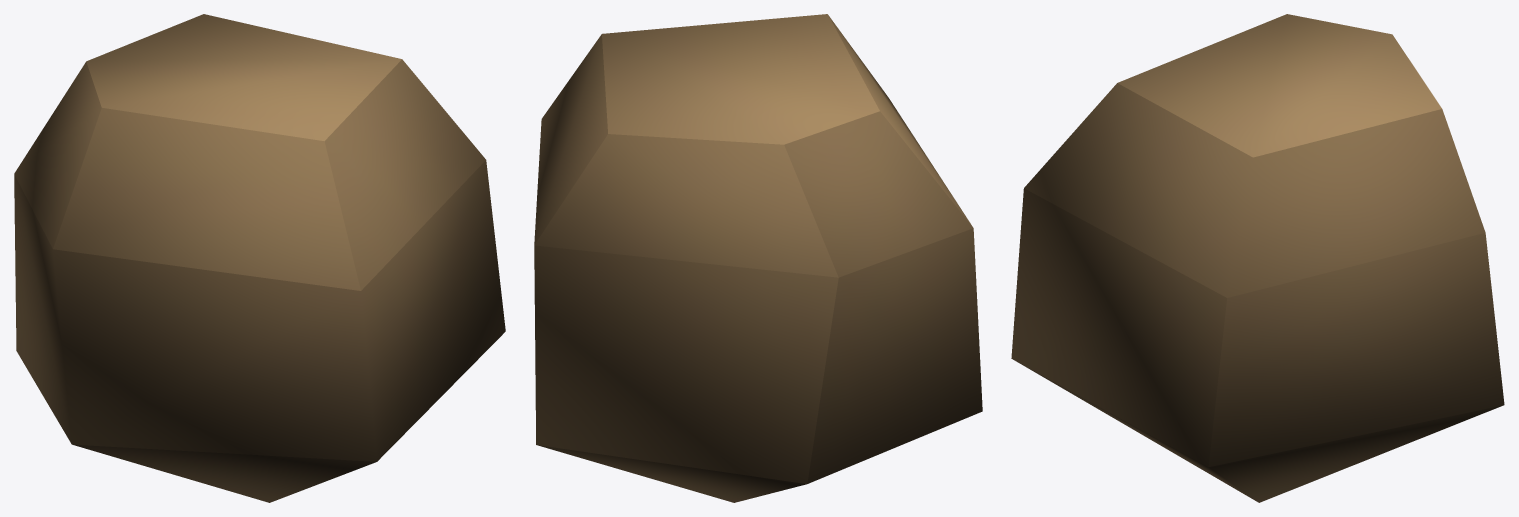
Rendered from Rock_Small_1B.fbx.
3 views of the same model, side by side, from view 1: azimuth 30°, elevation 25°; view 2: azimuth 150°, elevation 25°; view 3: azimuth 270°, elevation 25° (orthographic). The views are drawn at different scales.
Parts seen in each view (by area): view 1: Rock_Small_1B; view 2: Rock_Small_1B; view 3: Rock_Small_1B.
Part boxes in pixels (x1,y1,x2,y2): Rock_Small_1B: (14, 14, 505, 502); Rock_Small_1B: (534, 14, 982, 502); Rock_Small_1B: (1011, 14, 1504, 502).
Size of the model in its own units: 67.68 by 63.05 by 67.85.
